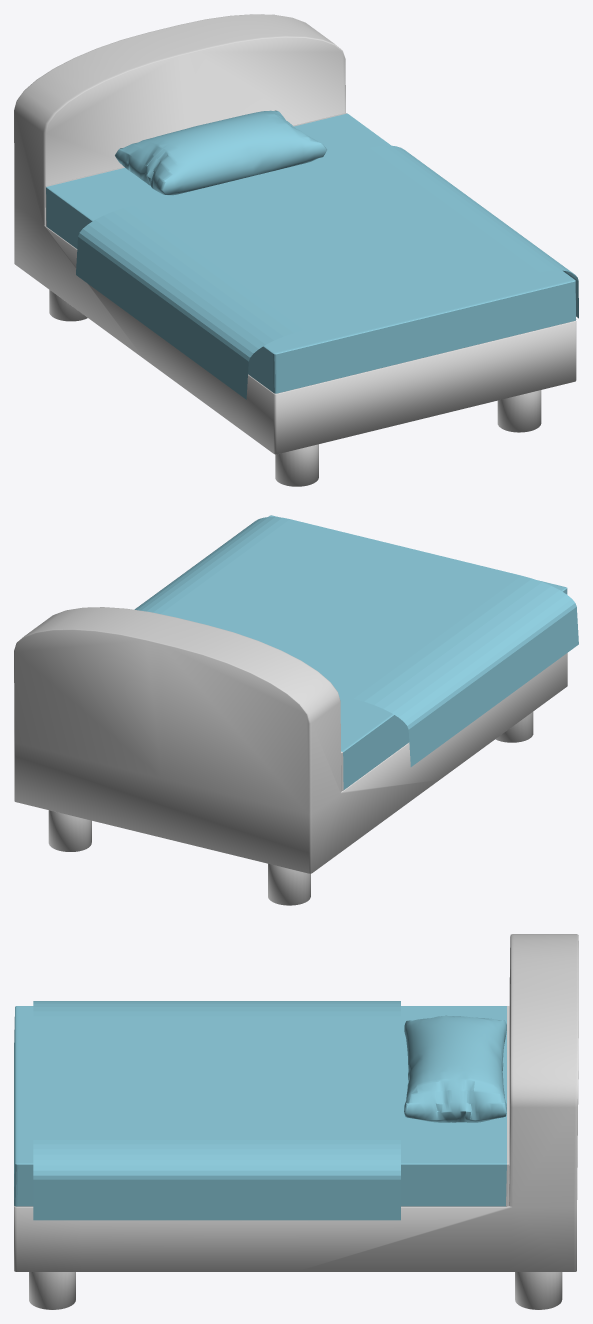
The model's file is basic_bed.glb.
The picture shows the model from 3 angles, top to bottom: view 1: azimuth 30°, elevation 25°; view 2: azimuth 150°, elevation 25°; view 3: azimuth 270°, elevation 25°; orthographic projection. The views are drawn at different scales.
Visible parts, largest first — view 1: frame, covers, mattress, pillow; view 2: frame, covers, mattress; view 3: covers, frame, mattress, pillow.
Part boxes in pixels (box(x1,y1,x2,y2)): frame: box(14, 14, 576, 486); covers: box(76, 145, 578, 399); mattress: box(46, 113, 576, 393); pillow: box(115, 110, 326, 195); frame: box(14, 607, 567, 905); covers: box(134, 517, 578, 766); mattress: box(268, 515, 567, 789); covers: box(33, 1001, 400, 1220); frame: box(14, 934, 578, 1309); mattress: box(14, 1006, 506, 1206); pillow: box(404, 1015, 506, 1122).
Size of the model in its own units: 2.2 by 1.54 by 3.01.
